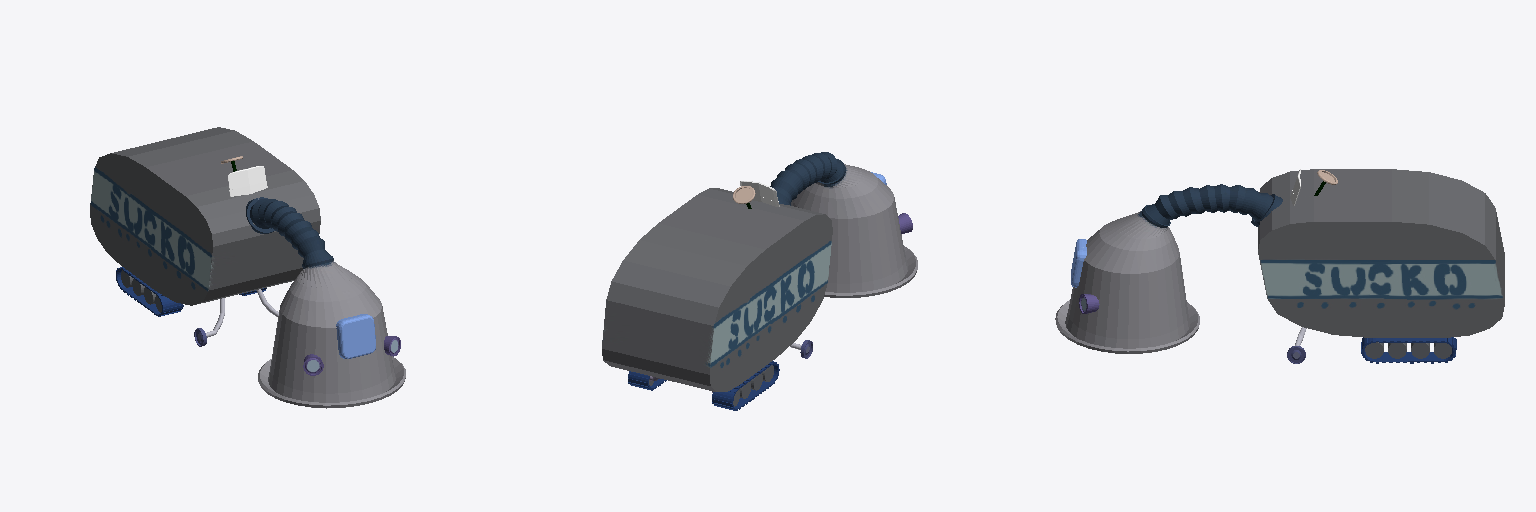
The picture shows the model from 3 angles: view 1: azimuth 30°, elevation 25°; view 2: azimuth 150°, elevation 25°; view 3: azimuth 270°, elevation 25°; orthographic projection.
Visible parts, largest first — view 1: AspiradoraRocko7:Mesh; view 2: AspiradoraRocko7:Mesh; view 3: AspiradoraRocko7:Mesh.
Part boxes in pixels (x1,y1,x2,y2): AspiradoraRocko7:Mesh: (90, 127, 405, 408); AspiradoraRocko7:Mesh: (602, 152, 917, 410); AspiradoraRocko7:Mesh: (1055, 169, 1504, 363).
Size of the model in its own units: 2.55 by 3.15 by 7.61.
1 materials, 1 textured.